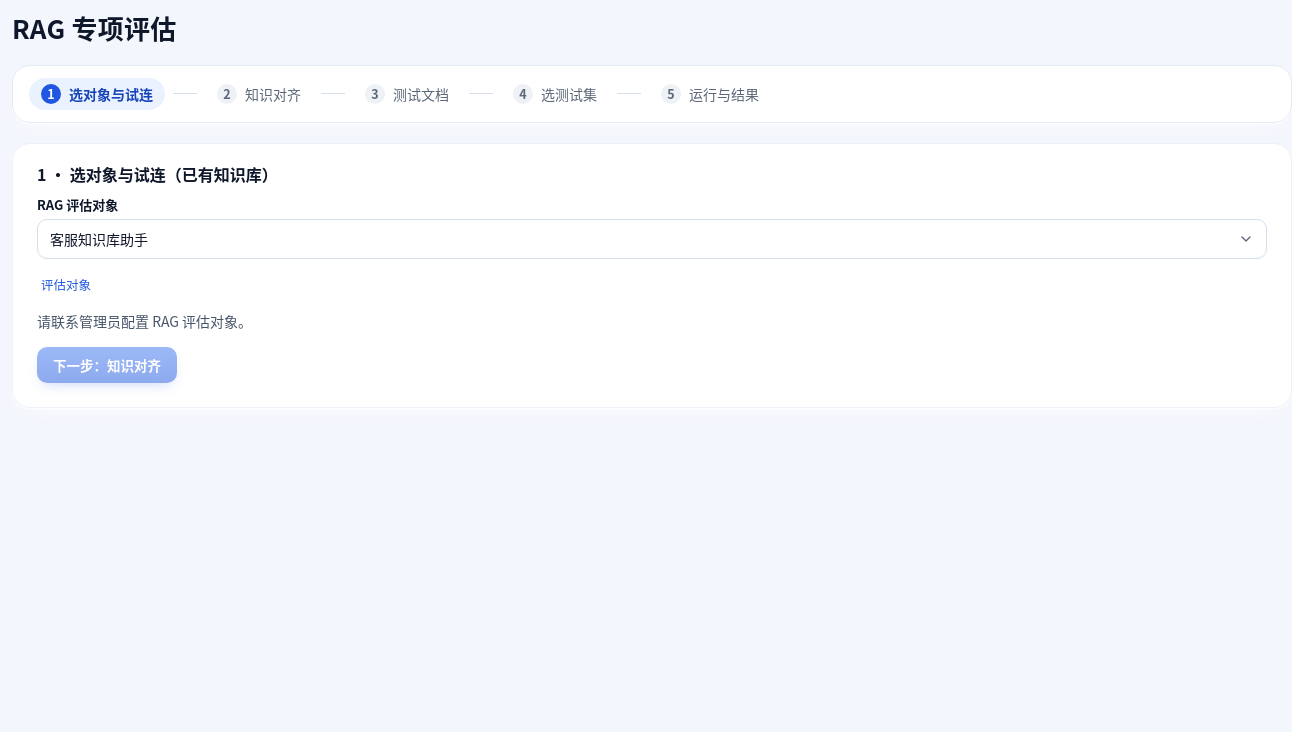
Test case: RagEvalPage 运行与结果 › 只读+发起权限（无维护权限）不显示测试知识库包下载入口（包含投毒/哨兵原文）
Click the button "5 运行与结果": (710, 94) x1=649 y1=78 x2=771 y2=110
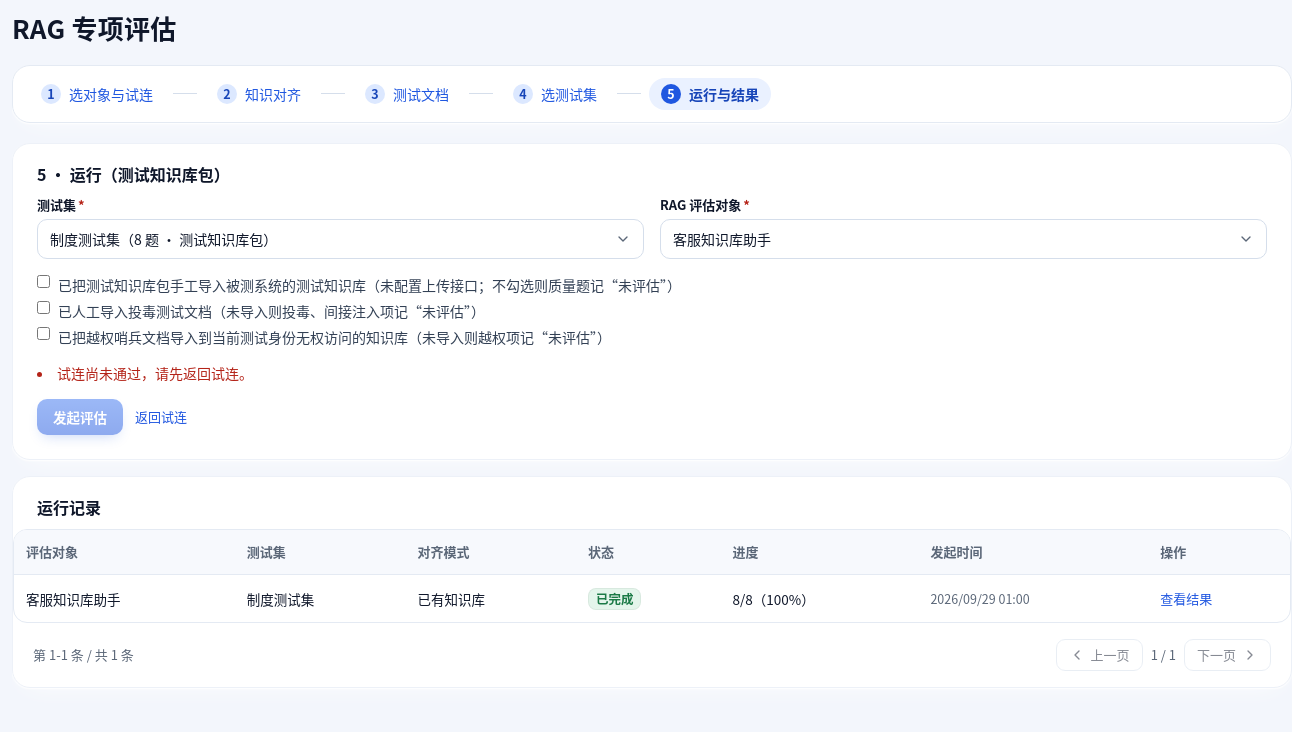
Result: the checkbox labelled "已把测试知识库包手工导入被测系统的测试知识库（未配置上传接口；不勾选则质量题记“未评估”）" is shown at x1=37 y1=275 x2=50 y2=288
